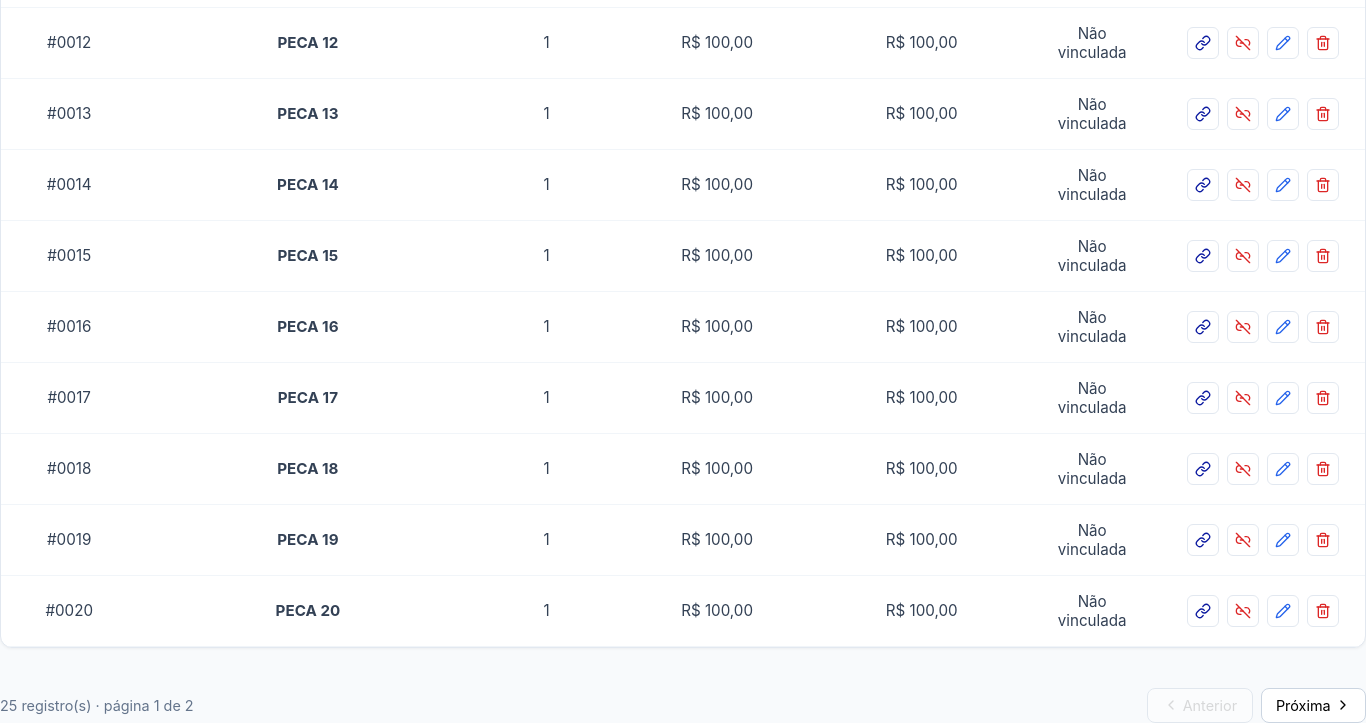
it: Página de Peças › 'Próxima' pede a página seguinte ao servidor
(page scrolled)
Step 1. Click the button "Próxima" → (1313, 705), box [1260,688,1365,722]
(page scrolled)
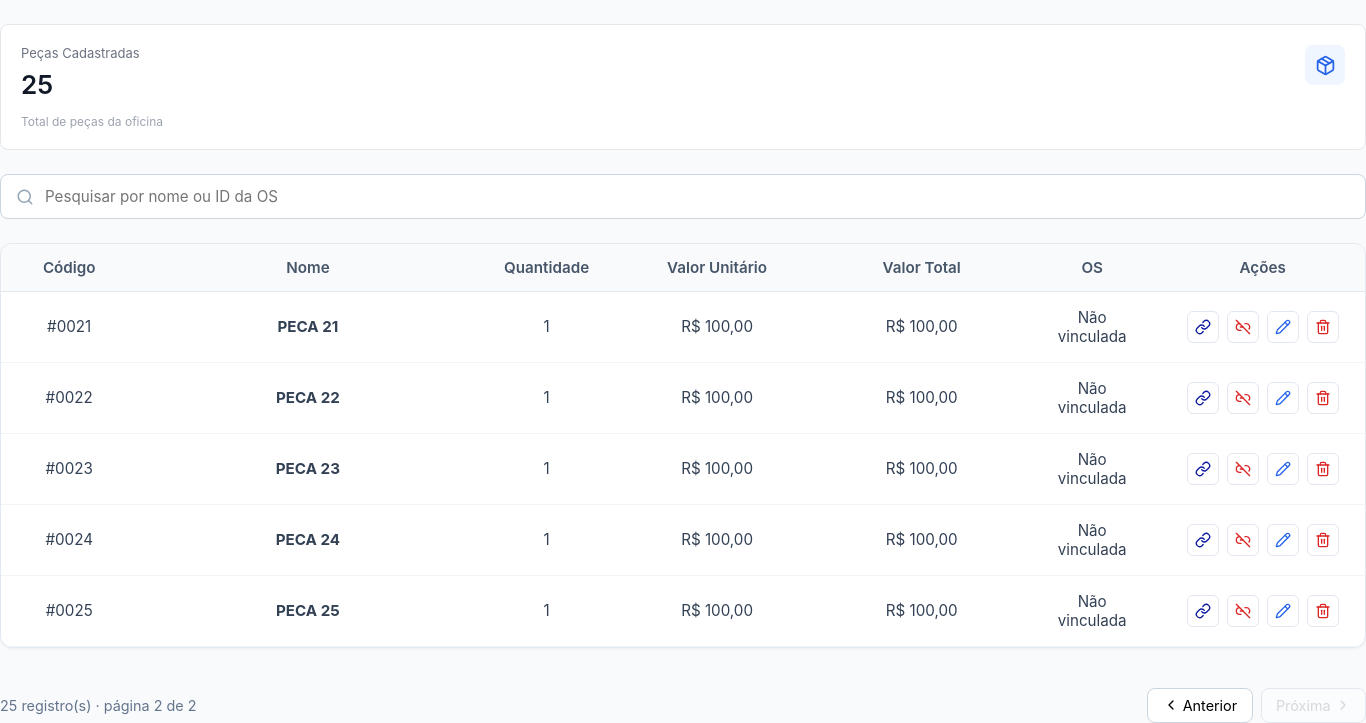
Result: the text "PECA 21" is shown at [277,317,338,336]
